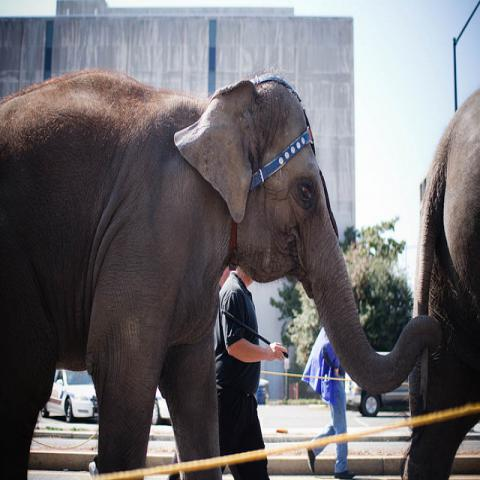car: (345, 351, 410, 417), (41, 369, 99, 424), (150, 388, 172, 425)
